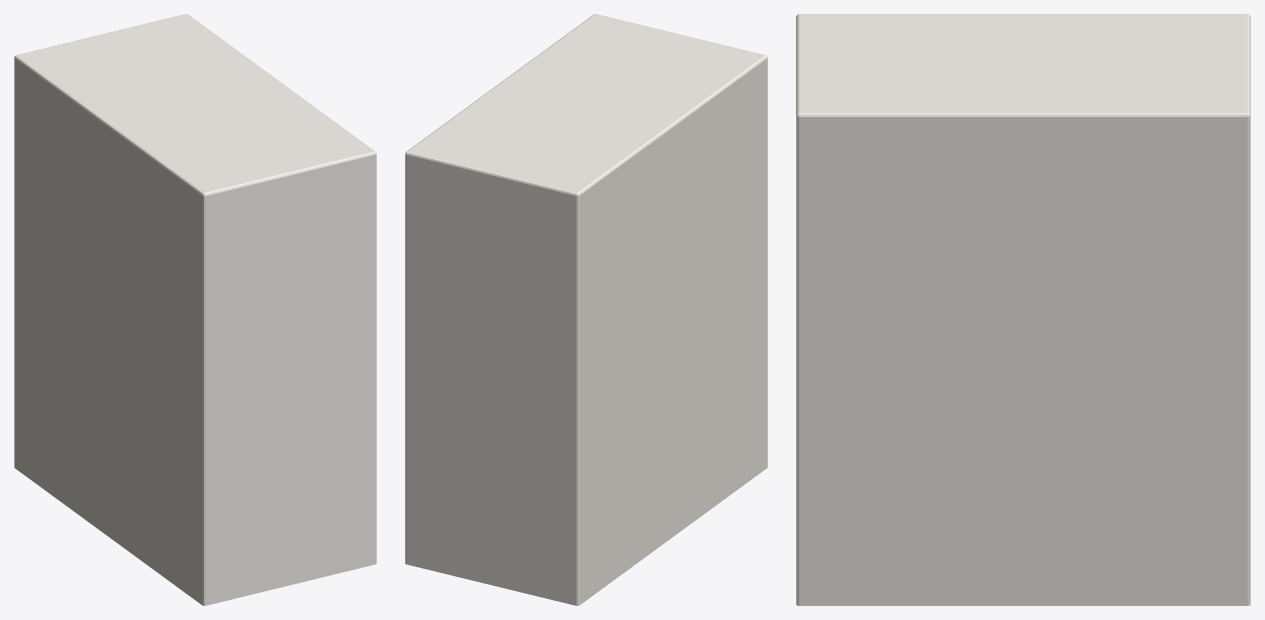
The model's file is Aur_DisplayStand_ShortWideM.gltf.
3 renders of one model, left to right at view 1: azimuth 30°, elevation 25°; view 2: azimuth 150°, elevation 25°; view 3: azimuth 270°, elevation 25°, orthographic. The views are drawn at different scales.
Visible parts, largest first — view 1: Aur_DisplayStand_ShortWideM.001; view 2: Aur_DisplayStand_ShortWideM.001; view 3: Aur_DisplayStand_ShortWideM.001.
Boxes of the visible parts, bbox=[...] form: Aur_DisplayStand_ShortWideM.001: bbox=[14, 14, 376, 605]; Aur_DisplayStand_ShortWideM.001: bbox=[405, 14, 767, 605]; Aur_DisplayStand_ShortWideM.001: bbox=[796, 14, 1250, 605].
Size of what is drawn, in the model's own units: 0.3033 by 0.6861 by 0.5745.
